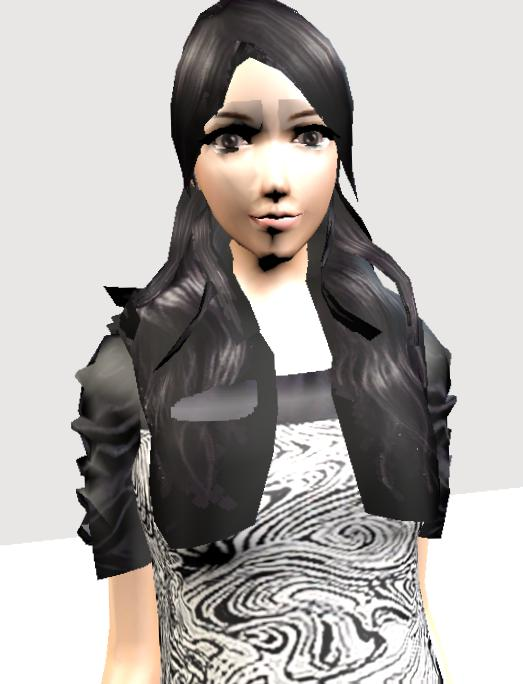clip: (162, 387, 263, 417)
